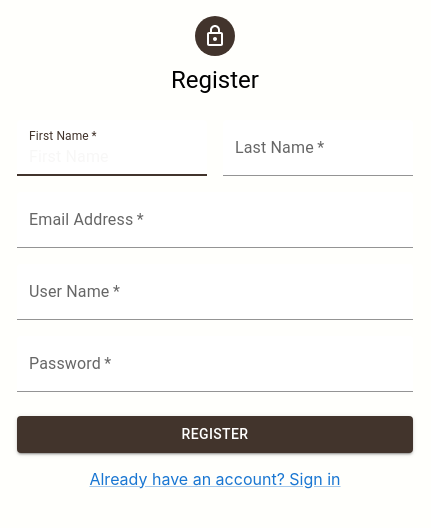
Test: name validation detects invalid name
The width and height of the screenshot is (431, 528).
Type "£45 !32" into the field with placeholder "First Name" at (112, 148), box [17,120,207,176]
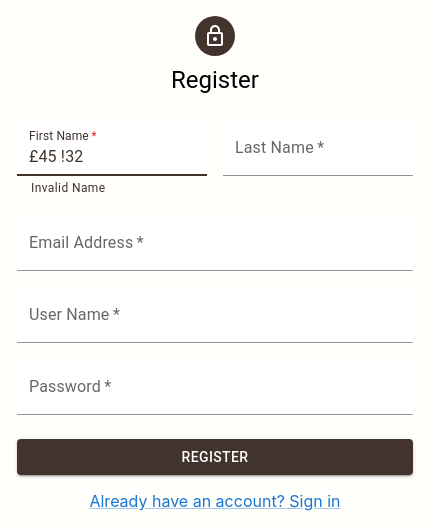
Now the text "Invalid Name" is shown, box [31,181,106,195]
